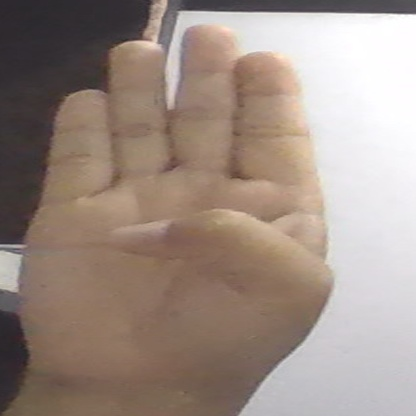B: (16, 25, 333, 416)
